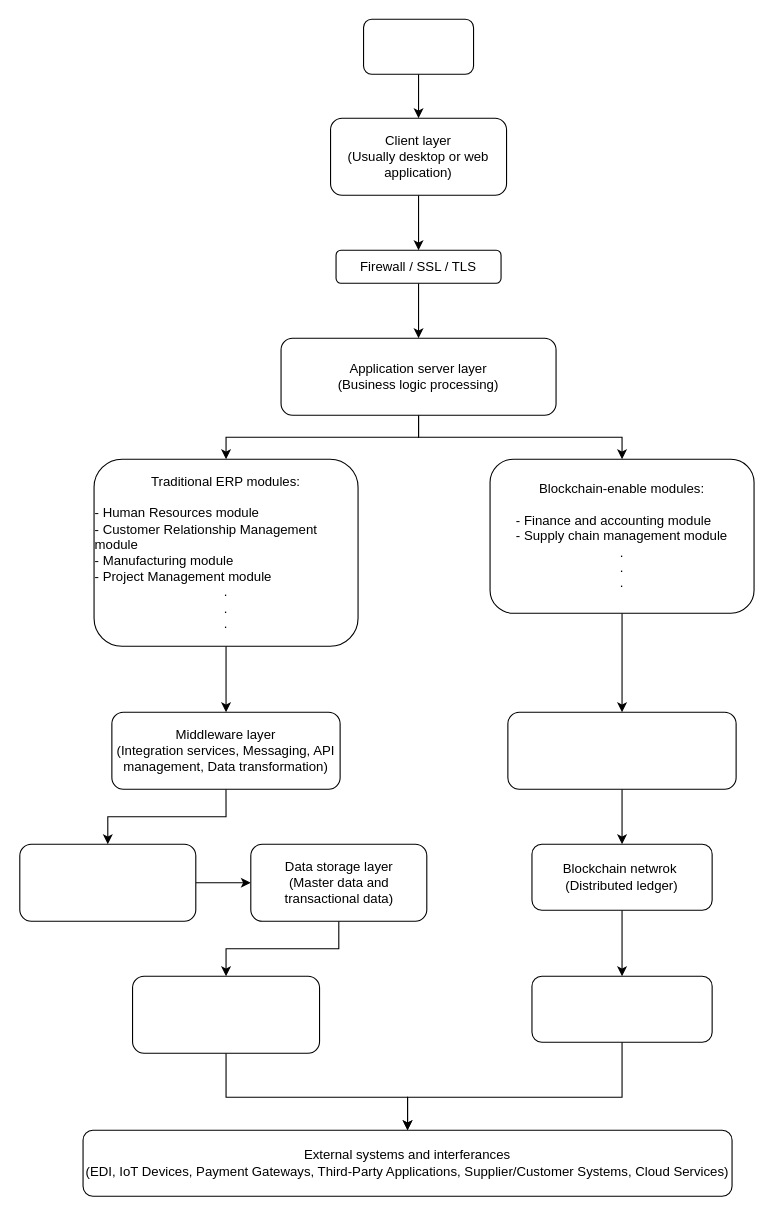
The diagram is 773 pixels wide and 1216 high, and some of its shapes have lost their labels. The centre of each missing label's shape, as x and y in pixels:
"Backup and recovery systems (Data replication and disaster recovery)" goes at point 225,1014.
"Blockchain middleware (Blockchain integration)" goes at point 621,750.
"Blockchain nodes (Consensus mechanisms, smart contracts)" goes at point 621,1008.
"Database layer (Centralized DBMS)" goes at point 107,882.
"End users (User interface)" goes at point 418,46.
